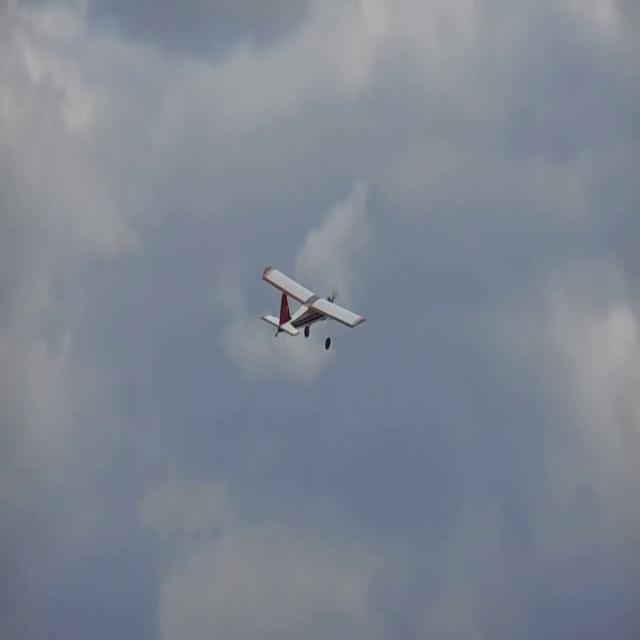iha: (292, 297, 335, 322)
